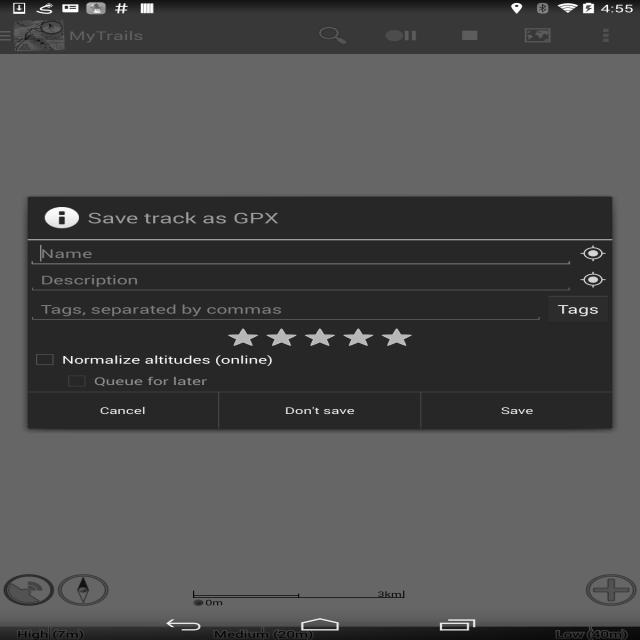Button: (219, 392, 420, 428), (28, 392, 218, 428), (422, 392, 612, 428), (544, 293, 612, 325)
CheckBox: (28, 349, 273, 370), (60, 370, 207, 392)
EditText: (28, 240, 574, 267), (28, 267, 574, 293), (28, 296, 544, 322)
ImageButton: (576, 243, 610, 264), (576, 269, 610, 290)
ImageView: (45, 207, 87, 228)
RatingBar: (224, 325, 416, 349)
TextView: (88, 208, 595, 227)
